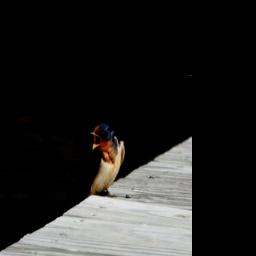Swallow: (83, 120, 125, 197)
